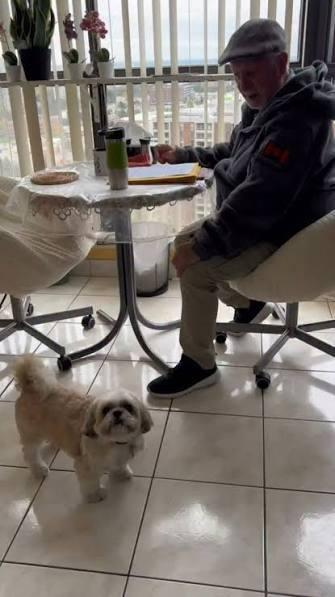adult_dog: (6, 351, 156, 505)
